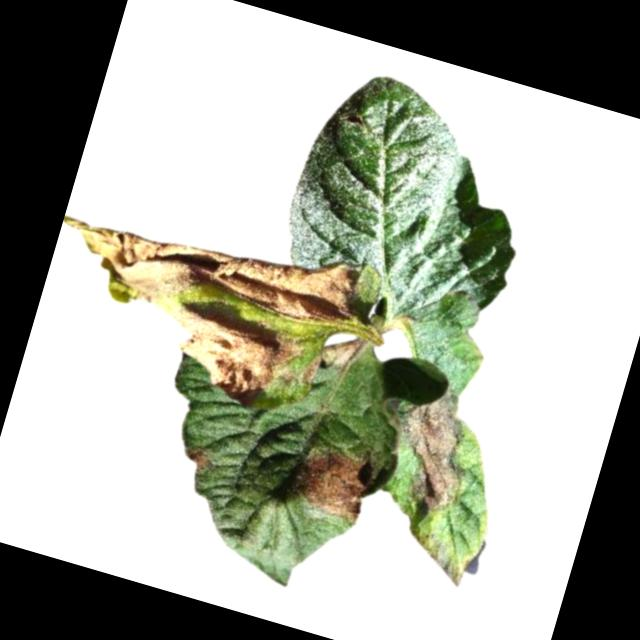Late_blight: (46, 184, 367, 362), (159, 297, 309, 410), (378, 380, 489, 520), (288, 441, 374, 529), (406, 530, 471, 588), (176, 441, 217, 477), (299, 353, 322, 388)
healthy: (275, 59, 553, 322)
